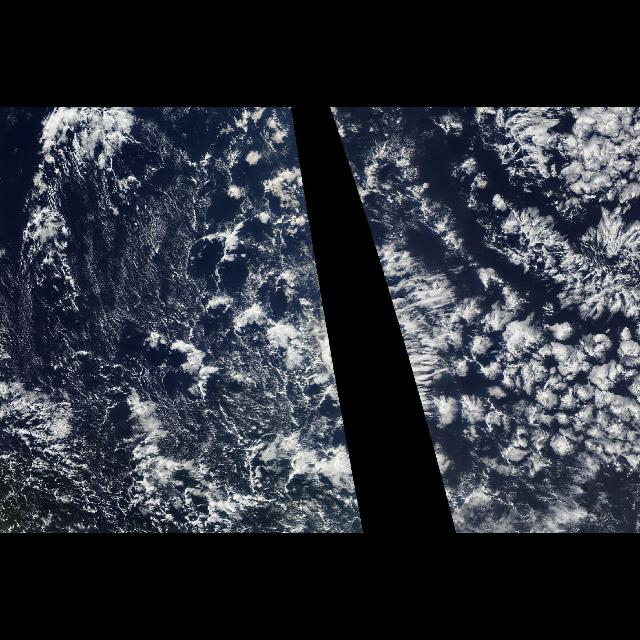Flower: (429, 107, 639, 533)
Gravel: (7, 128, 309, 532)
